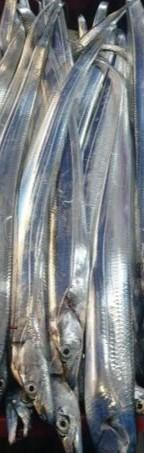fish: (10, 0, 134, 419)
